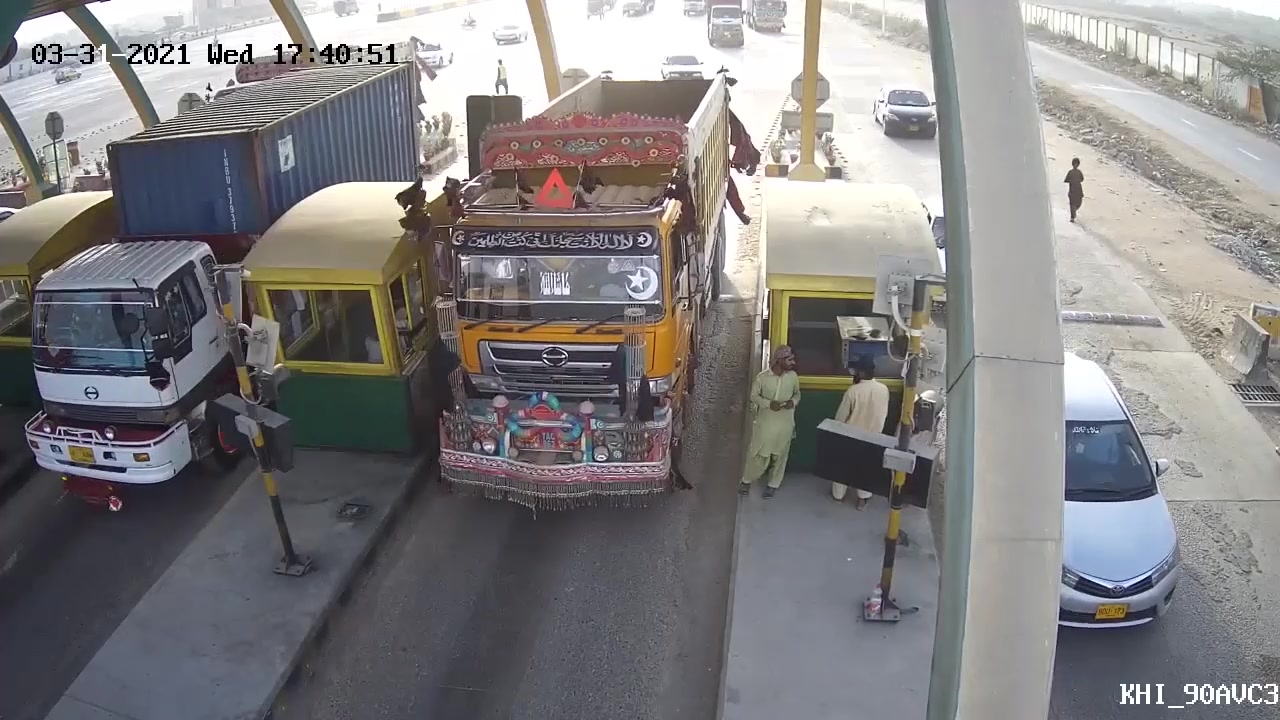F5: (433, 121, 700, 521)
